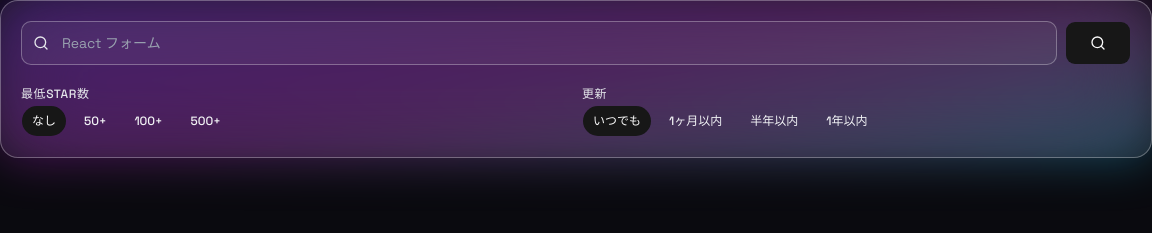
Test: SearchCard › 入力を開始するとエラーメッセージが消える
Note: まず空で検索してエラーを出す
Click the button named "検索" at (1098, 43), box [1065,21,1131,65]
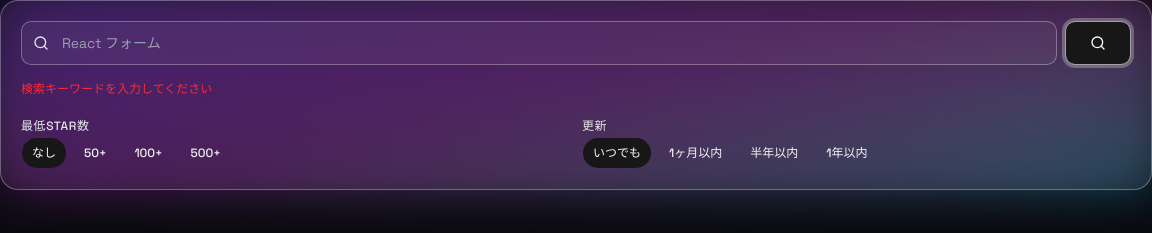
expect the text "検索キーワードを入力してください" is shown: met, box [21,81,212,97]
Note: 入力を始めるとメッセージが消える
Type "r" into the field with placeholder "React フォーム" at (539, 43), box [21,21,1057,65]
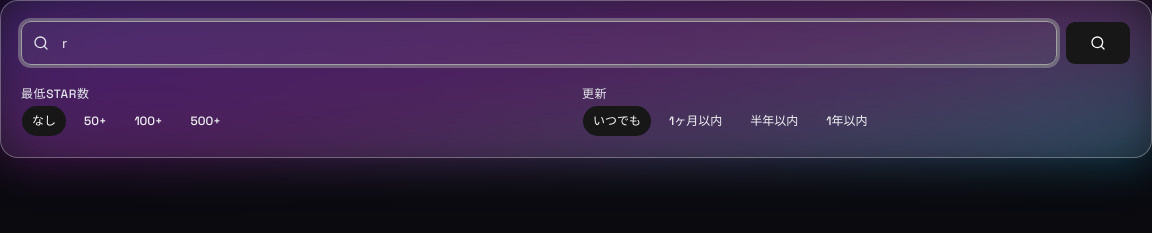
expect the text "検索キーワードを入力してください" is gone: met
